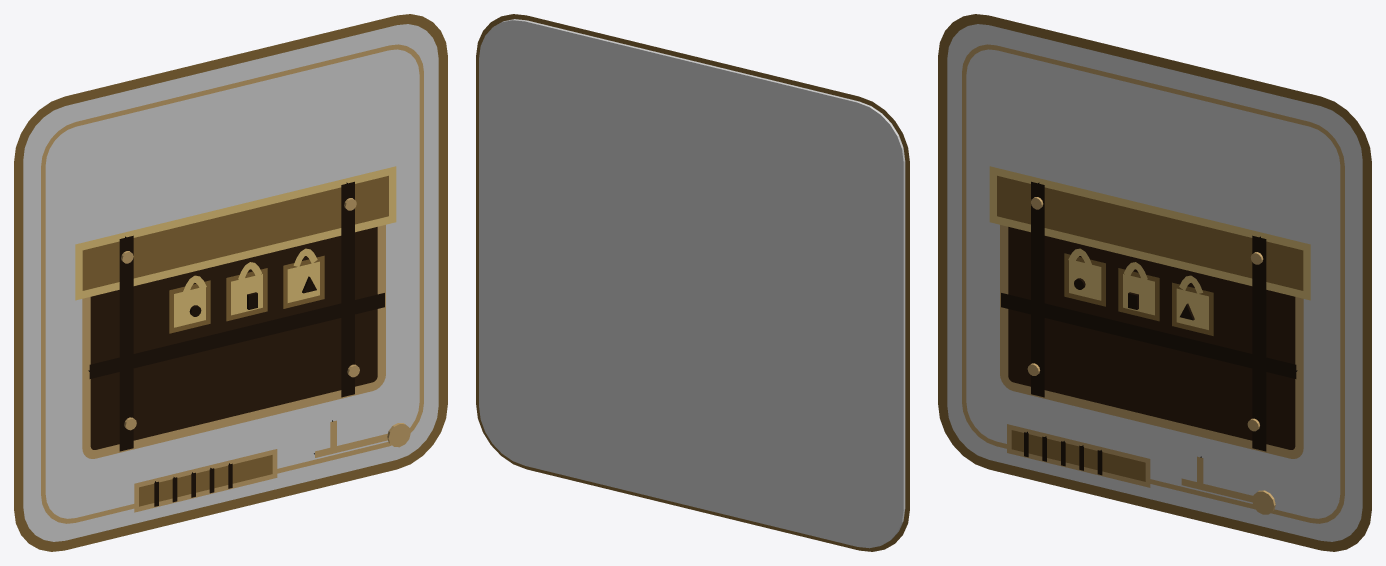
File: obj-sunduk-kazny.glb
The picture shows the model from 3 angles, left to right: view 1: azimuth 30°, elevation 25°; view 2: azimuth 150°, elevation 25°; view 3: azimuth 330°, elevation 25°; orthographic projection.
Visible parts, largest first — view 1: obj-sunduk-kazny; view 2: obj-sunduk-kazny; view 3: obj-sunduk-kazny.
Part boxes in pixels (left/top/right/bottom): obj-sunduk-kazny: left=14, top=14, right=447, bottom=551; obj-sunduk-kazny: left=476, top=14, right=909, bottom=551; obj-sunduk-kazny: left=938, top=14, right=1371, bottom=551.
Bounding box in the file's own units: 0.3917 × 0.3917 × 0.05.
